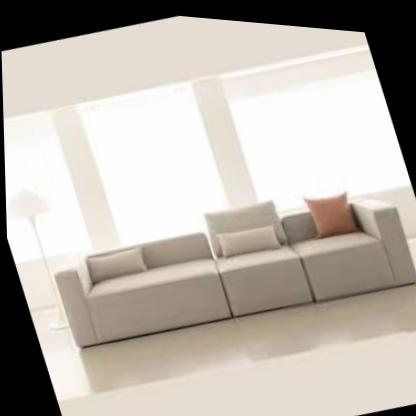Sofa: (20, 129, 416, 399)
